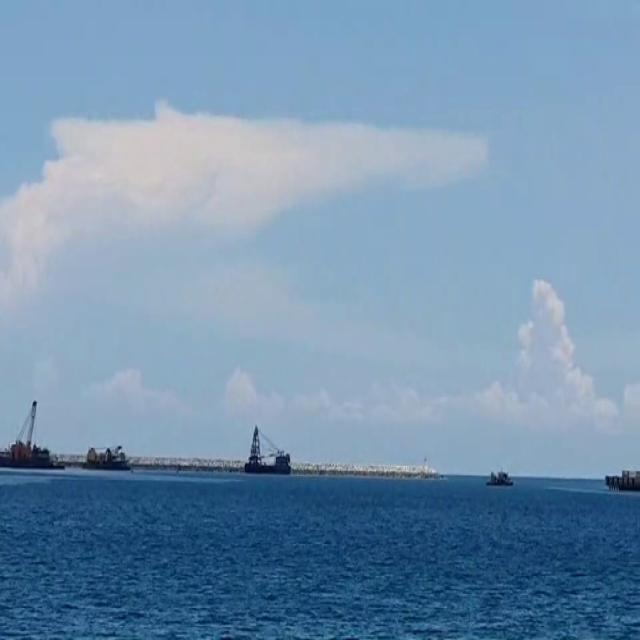civilianship: (238, 407, 302, 493), (2, 401, 64, 482), (81, 437, 133, 490), (479, 460, 524, 507)
